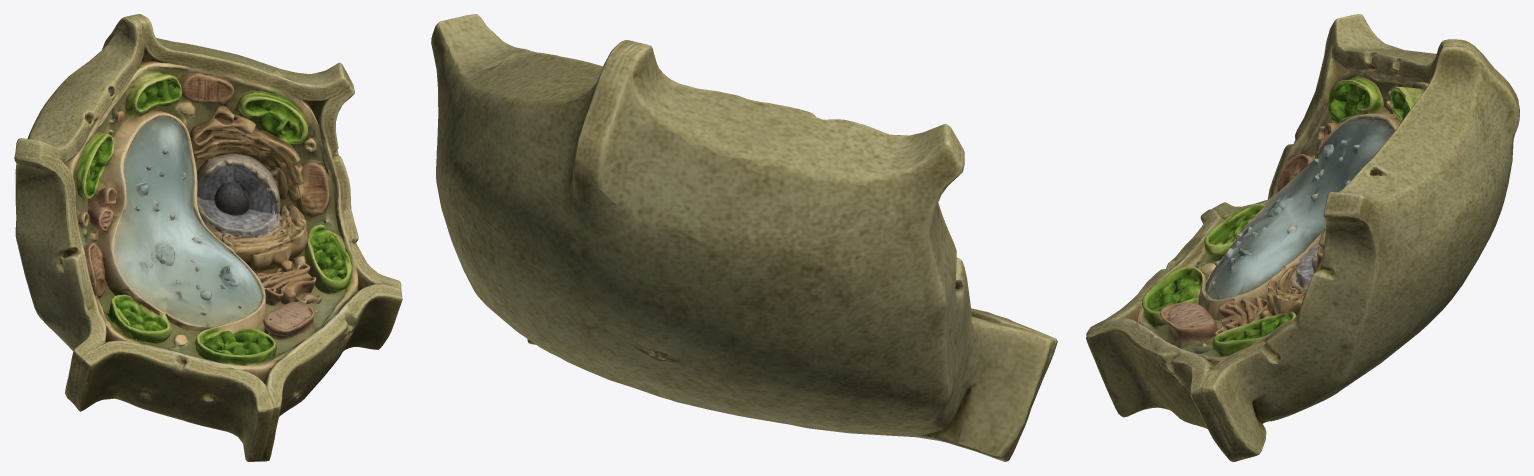
File: plant-cell-v18.glb
3 views of the same model, side by side, from view 1: azimuth 30°, elevation 25°; view 2: azimuth 150°, elevation 25°; view 3: azimuth 270°, elevation 25° (orthographic). The views are drawn at different scales.
Visible parts, largest first — view 1: geometry_0; view 2: geometry_0; view 3: geometry_0.
Part boxes in pixels (x1,y1,x2,y2): geometry_0: (14,14,402,461); geometry_0: (431,14,1057,461); geometry_0: (1086,14,1519,461).
Bounding box in the file's own units: 0.1499 × 0.1433 × 0.1476.
Materials: 1 (1 with a texture image).
